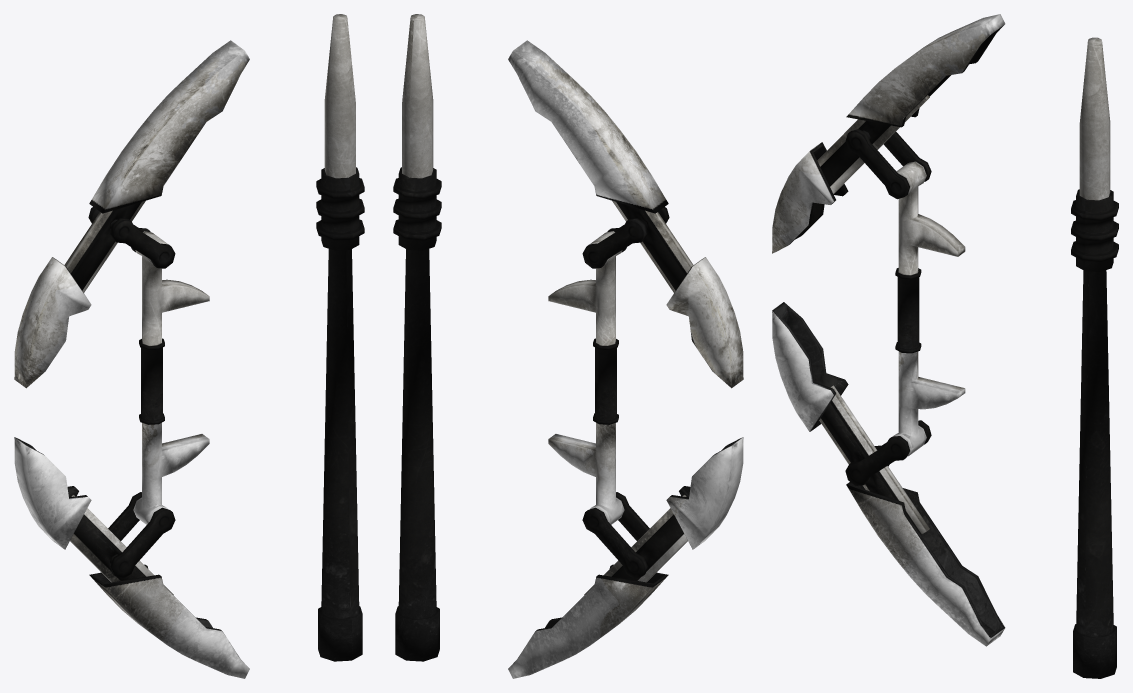
Rendered from BowandArrow.FBX.
The picture shows the model from 3 angles, left to right: view 1: azimuth 30°, elevation 25°; view 2: azimuth 150°, elevation 25°; view 3: azimuth 330°, elevation 25°; orthographic projection.
Parts seen in each view (by area): view 1: FlechaLow, Arco01Low, Arco03Low, Arco02Low; view 2: FlechaLow, Arco01Low, Arco03Low, Arco02Low; view 3: FlechaLow, Arco03Low, Arco01Low, Arco02Low.
Boxes of the visible parts, x1=… form: FlechaLow: x1=316, y1=14, x2=364, y2=661; Arco01Low: x1=14, y1=40, x2=249, y2=388; Arco03Low: x1=14, y1=437, x2=249, y2=678; Arco02Low: x1=133, y1=231, x2=209, y2=524; FlechaLow: x1=393, y1=14, x2=441, y2=661; Arco01Low: x1=508, y1=40, x2=743, y2=388; Arco03Low: x1=508, y1=437, x2=743, y2=678; Arco02Low: x1=548, y1=231, x2=624, y2=524; FlechaLow: x1=1071, y1=37, x2=1118, y2=678; Arco03Low: x1=772, y1=302, x2=1005, y2=646; Arco01Low: x1=772, y1=14, x2=1005, y2=253; Arco02Low: x1=893, y1=161, x2=965, y2=456.
Size of the model in its own units: 82.65 by 147 by 10.48.
